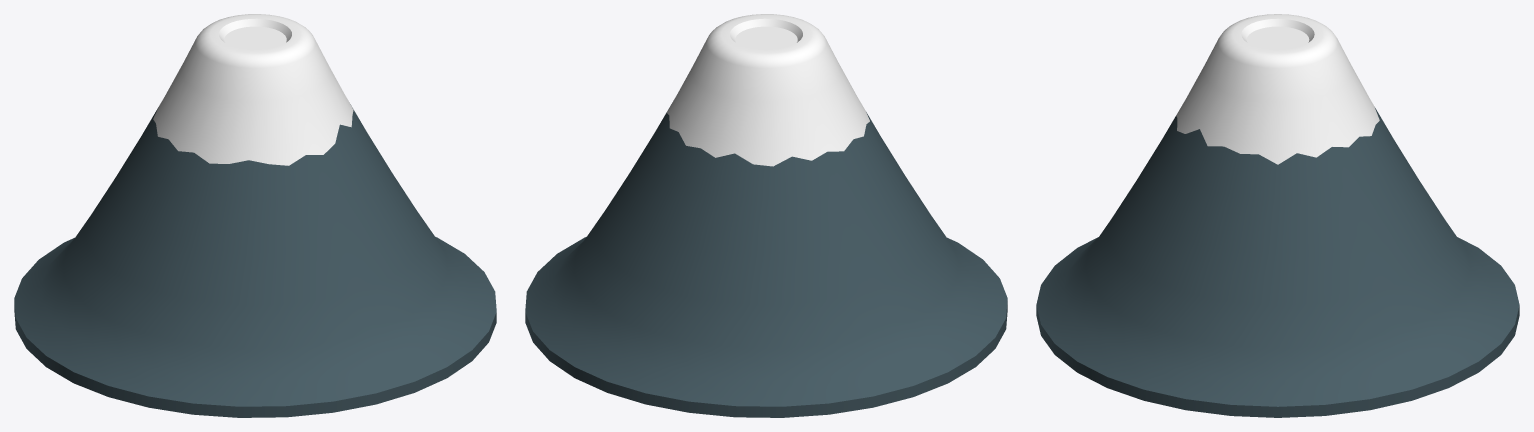
File: mount_fuji.glb
3 renders of one model, left to right at view 1: azimuth 30°, elevation 25°; view 2: azimuth 150°, elevation 25°; view 3: azimuth 270°, elevation 25°, orthographic.
Visible parts, largest first — view 1: Cone; view 2: Cone; view 3: Cone.
Part boxes in pixels (<box>): Cone: <box>14,14,496,417</box>; Cone: <box>525,14,1007,417</box>; Cone: <box>1036,14,1519,417</box>.
Size of the model in its own units: 2.33 by 1.5 by 2.33.
Materials: 1 (1 with a texture image).
